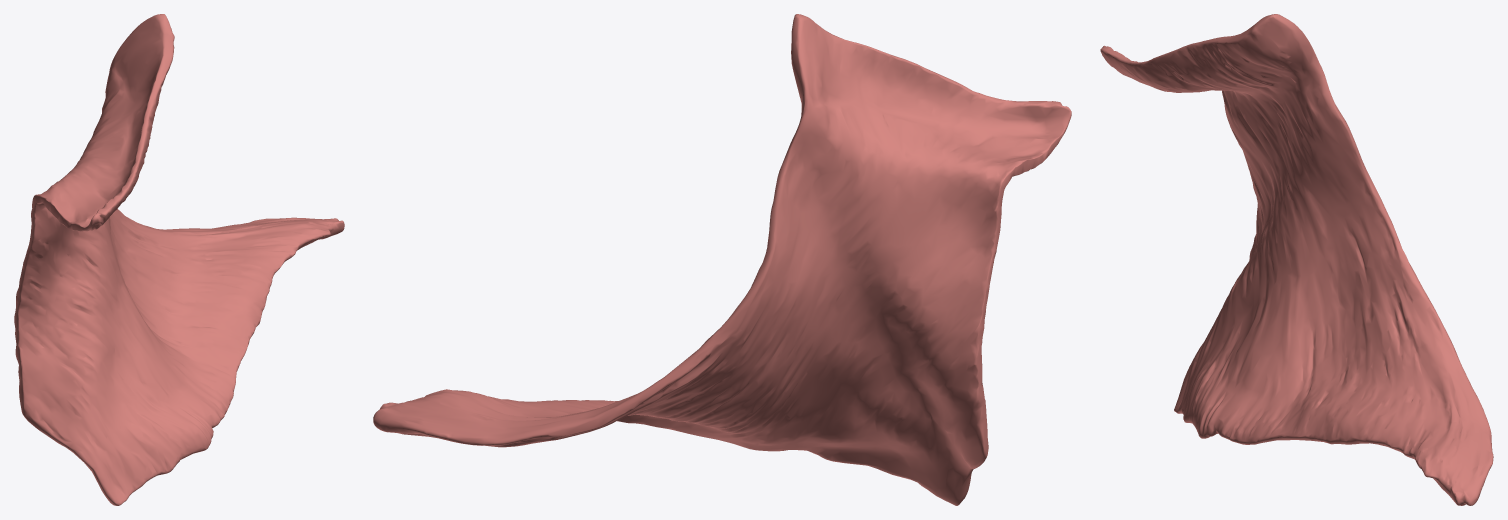
The model's file is fma45740_mm1318.glb.
3 renders of one model, left to right at view 1: azimuth 30°, elevation 25°; view 2: azimuth 150°, elevation 25°; view 3: azimuth 270°, elevation 25°, orthographic. The views are drawn at different scales.
Visible parts, largest first — view 1: FMA45740_MM1318; view 2: FMA45740_MM1318; view 3: FMA45740_MM1318.
Boxes of the visible parts, x1,y1,x2,y2 form: FMA45740_MM1318: [14, 14, 344, 505]; FMA45740_MM1318: [373, 14, 1071, 505]; FMA45740_MM1318: [1100, 14, 1493, 505].
Bounding box in the file's own units: 0.1518 × 0.1481 × 0.119.
